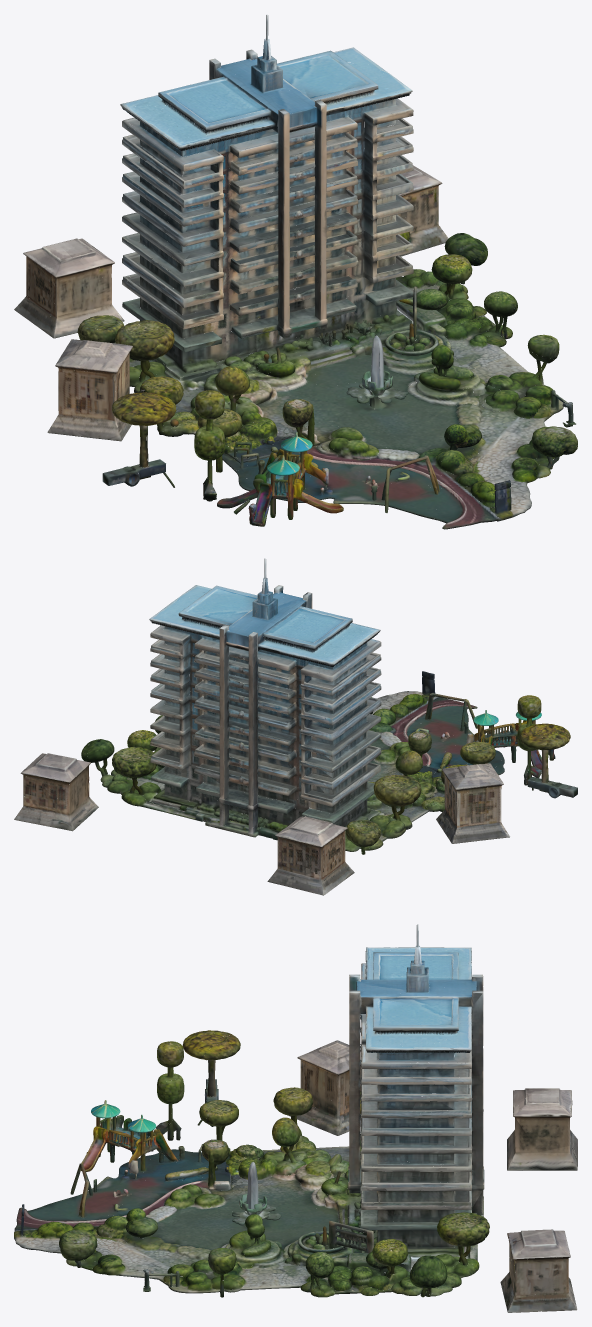
The model's file is building_optimized.glb.
3 views of the same model, one above another, from view 1: azimuth 30°, elevation 25°; view 2: azimuth 150°, elevation 25°; view 3: azimuth 270°, elevation 25° (orthographic). The views are drawn at different scales.
Parts seen in each view (by area): view 1: tripo_node_39525a57-4cc4-40f4-8be3-c44b64cf11d5; view 2: tripo_node_39525a57-4cc4-40f4-8be3-c44b64cf11d5; view 3: tripo_node_39525a57-4cc4-40f4-8be3-c44b64cf11d5.
Boxes of the visible parts, bbox=[...] form: tripo_node_39525a57-4cc4-40f4-8be3-c44b64cf11d5: bbox=[14, 14, 577, 529]; tripo_node_39525a57-4cc4-40f4-8be3-c44b64cf11d5: bbox=[14, 558, 577, 895]; tripo_node_39525a57-4cc4-40f4-8be3-c44b64cf11d5: bbox=[14, 924, 577, 1312].
Bounding box in the file's own units: 0.9158 × 0.5877 × 0.9794.
1 material, 1 textured.
